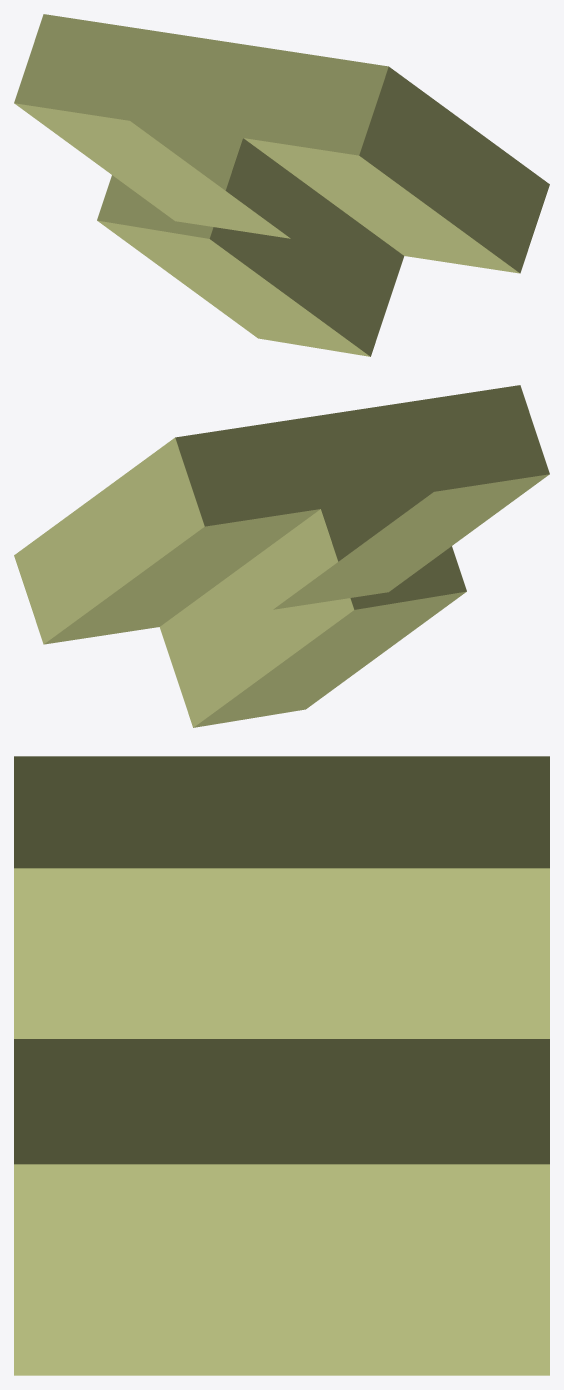
The picture shows the model from 3 angles, top to bottom: view 1: azimuth 30°, elevation 25°; view 2: azimuth 150°, elevation 25°; view 3: azimuth 270°, elevation 25°; orthographic projection. The views are drawn at different scales.
Parts seen in each view (by area): view 1: 0_0_1_2_3_0_3_1_0_2; view 2: 0_0_1_2_3_0_3_1_0_2; view 3: 0_0_1_2_3_0_3_1_0_2.
Part boxes in pixels (x1,y1,x2,y2): 0_0_1_2_3_0_3_1_0_2: (14,14,549,356); 0_0_1_2_3_0_3_1_0_2: (14,385,549,727); 0_0_1_2_3_0_3_1_0_2: (14,756,549,1375).
Bounding box in the file's own units: 12.08 × 8.18 × 9.
